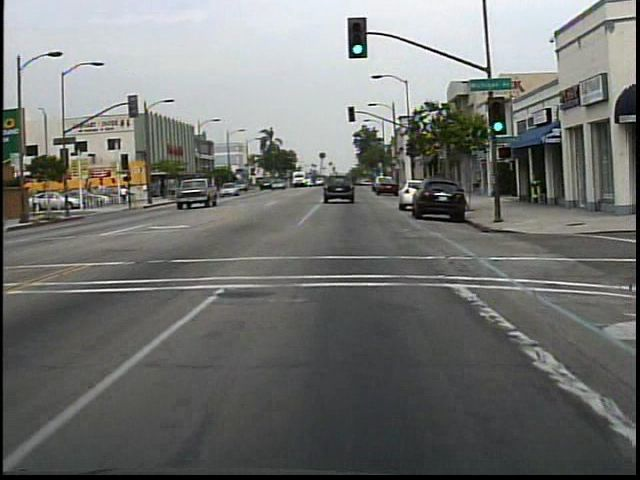person: (120, 183, 128, 208)
